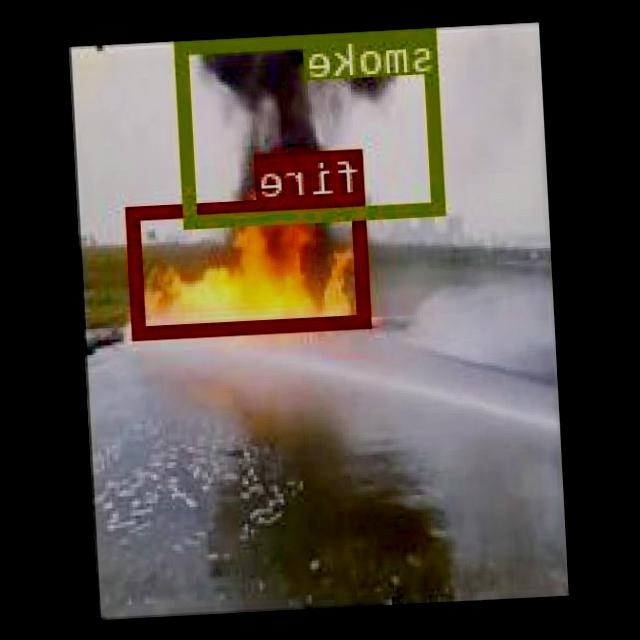fire: (130, 192, 372, 338)
smoke: (177, 27, 447, 225)
